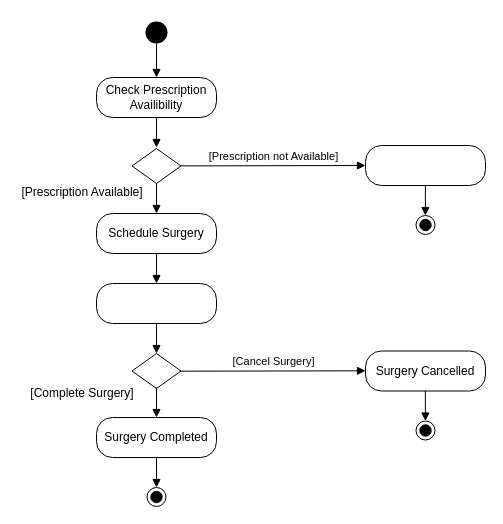
Image size: 503x524. Some labels were removed from this diagram. Here are the shapes that lost their labels. From the top down, the centre of each, then its label:
pixel 425 165: Not Valid for Surgery
pixel 156 303: Check Surgery Status
